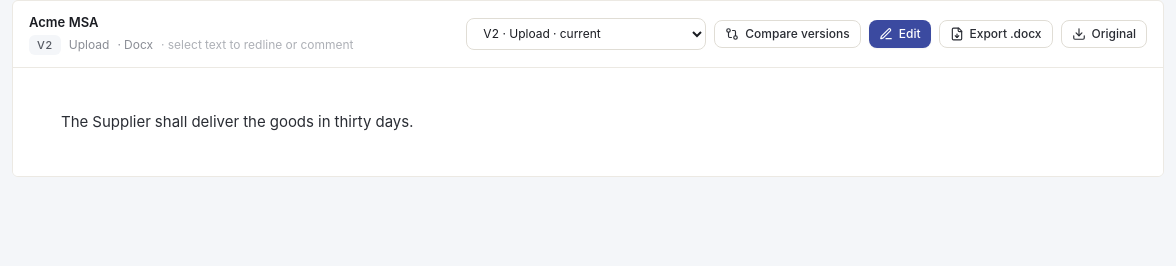
Test: editing the text of a contract that is past approval › warns a contract still with the approvers that they are deciding on text that is about to change
Click the button "Edit" at (900, 34), box [869, 20, 931, 48]
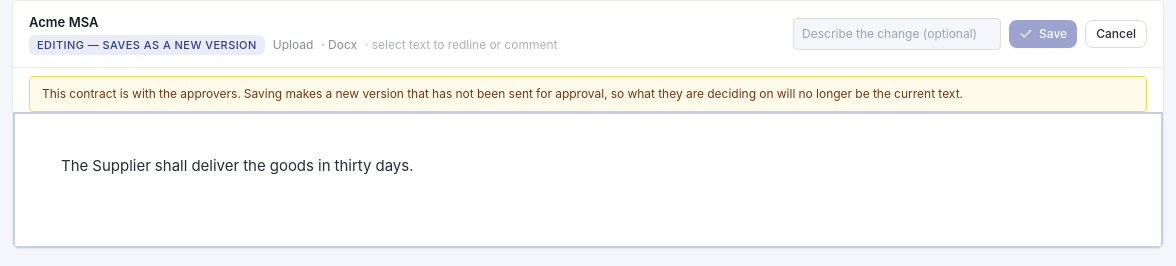
expect the text box named "Edit contract text" is shown: met, box [13, 112, 1163, 248]
expect the text "This contract is with the approvers" is shown: met, box [42, 86, 963, 100]
